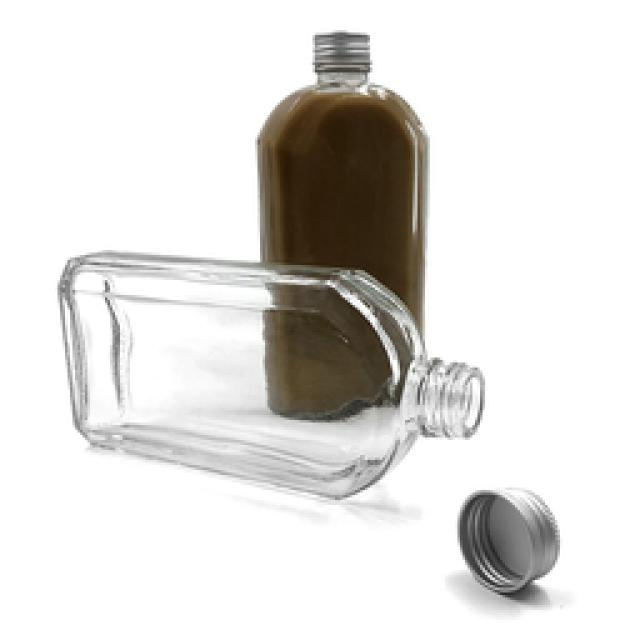glass_beverage_bottles: (55, 257, 492, 505)
